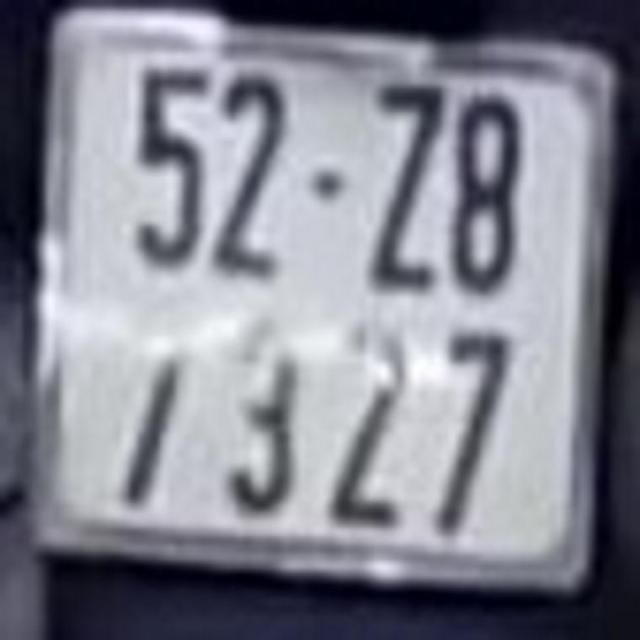2: (328, 316, 402, 526), (214, 65, 279, 274)
3: (218, 312, 298, 511)
5: (130, 58, 207, 269)
7: (433, 321, 514, 545)
8: (451, 87, 522, 296)
Z: (366, 78, 438, 292)
